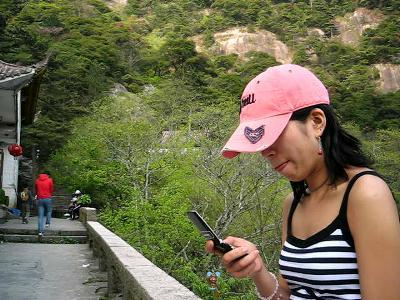person: (206, 63, 400, 300)
